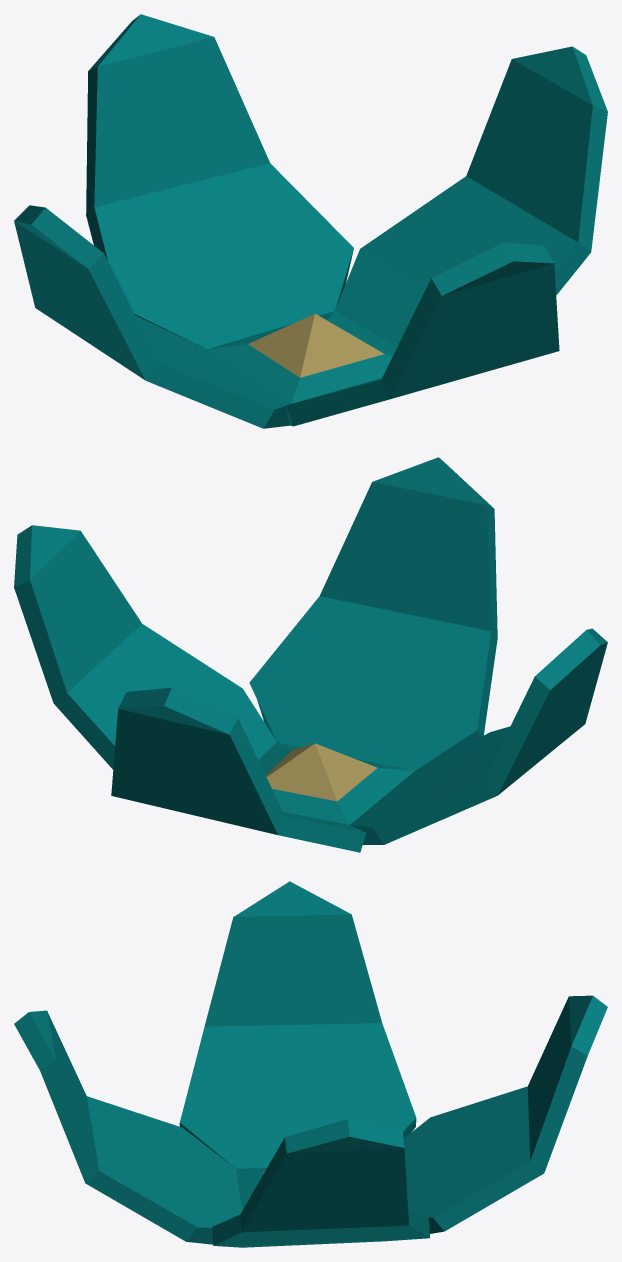
The model's file is Flowers_Crop.glb.
3 renders of one model, top to bottom at view 1: azimuth 30°, elevation 25°; view 2: azimuth 150°, elevation 25°; view 3: azimuth 270°, elevation 25°, orthographic. The views are drawn at different scales.
Visible parts, largest first — view 1: Flowers_Crop_Plane.009; view 2: Flowers_Crop_Plane.009; view 3: Flowers_Crop_Plane.009.
Part boxes in pixels (x1,y1,x2,y2): Flowers_Crop_Plane.009: (14,14,607,428); Flowers_Crop_Plane.009: (14,457,607,852); Flowers_Crop_Plane.009: (14,881,607,1247).
Size of the model in its own units: 0.2918 by 0.1162 by 0.2926.
